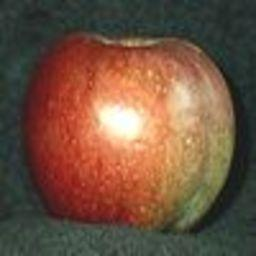apple: (22, 33, 234, 234)
